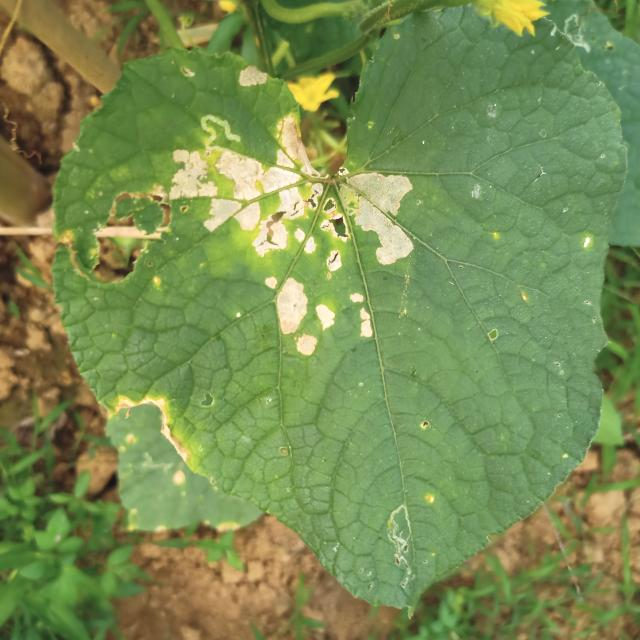disease_cucumber: (171, 106, 423, 371)
